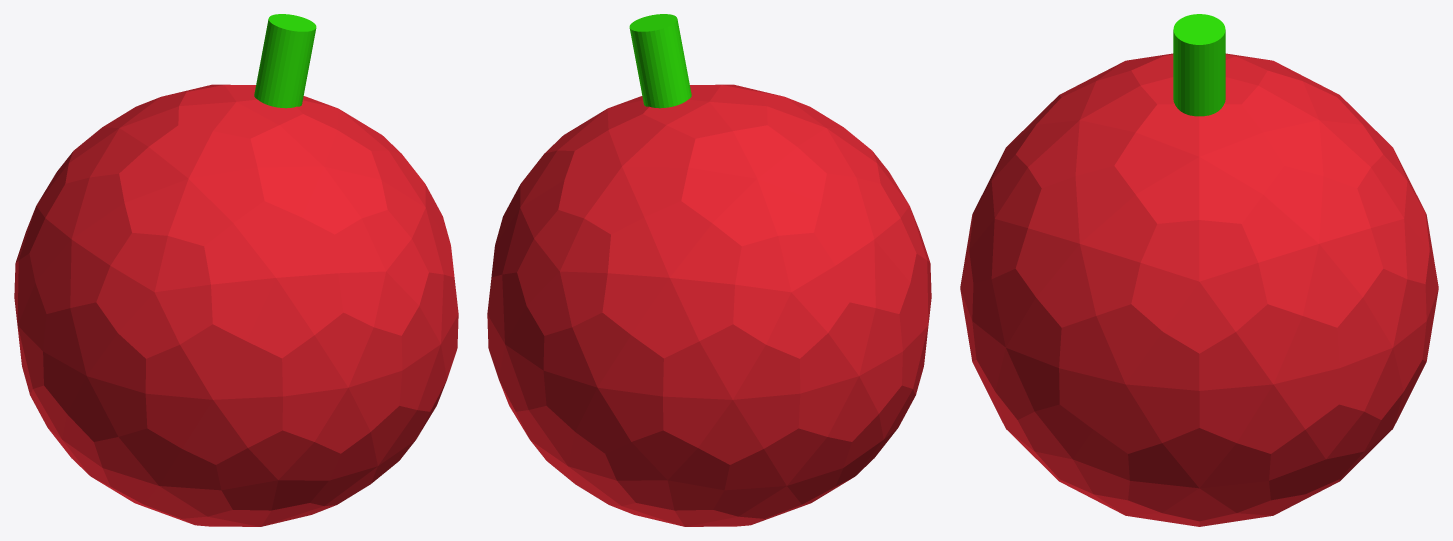
The model's file is Apple.fbx.
3 renders of one model, left to right at view 1: azimuth 30°, elevation 25°; view 2: azimuth 150°, elevation 25°; view 3: azimuth 270°, elevation 25°, orthographic. The views are drawn at different scales.
Visible parts, largest first — view 1: Apple, Apple stem; view 2: Apple, Apple stem; view 3: Apple, Apple stem.
Part boxes in pixels (x1=…): Apple: x1=14, y1=84, x2=458, y2=526; Apple stem: x1=254, y1=14, x2=316, y2=108; Apple: x1=487, y1=84, x2=931, y2=526; Apple stem: x1=629, y1=14, x2=691, y2=108; Apple: x1=960, y1=53, x2=1438, y2=526; Apple stem: x1=1173, y1=14, x2=1225, y2=116.
Size of the model in its own units: 10.52 by 12.41 by 10.54.
